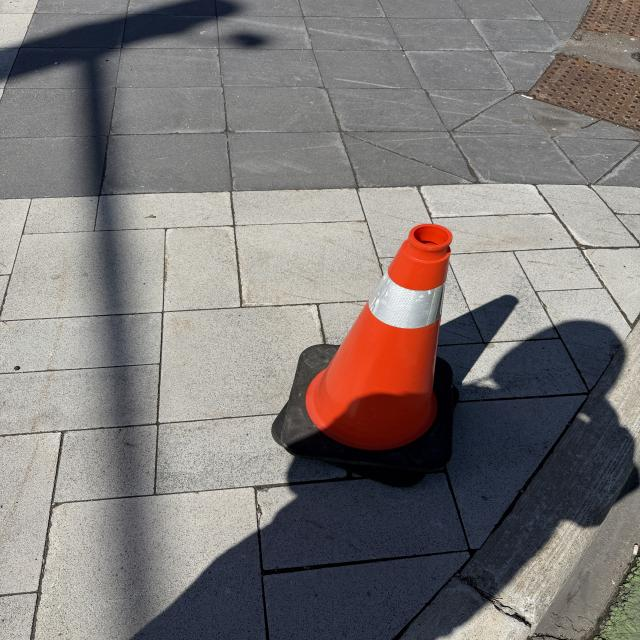Traffic Cone: (270, 226, 469, 485)
